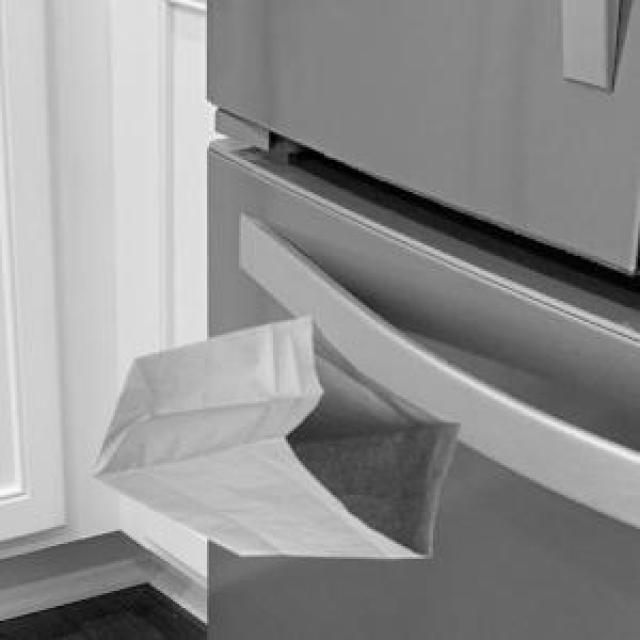paper: (90, 314, 457, 553)
